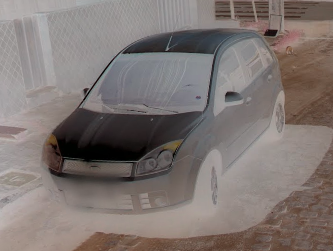car: (40, 28, 288, 215)
